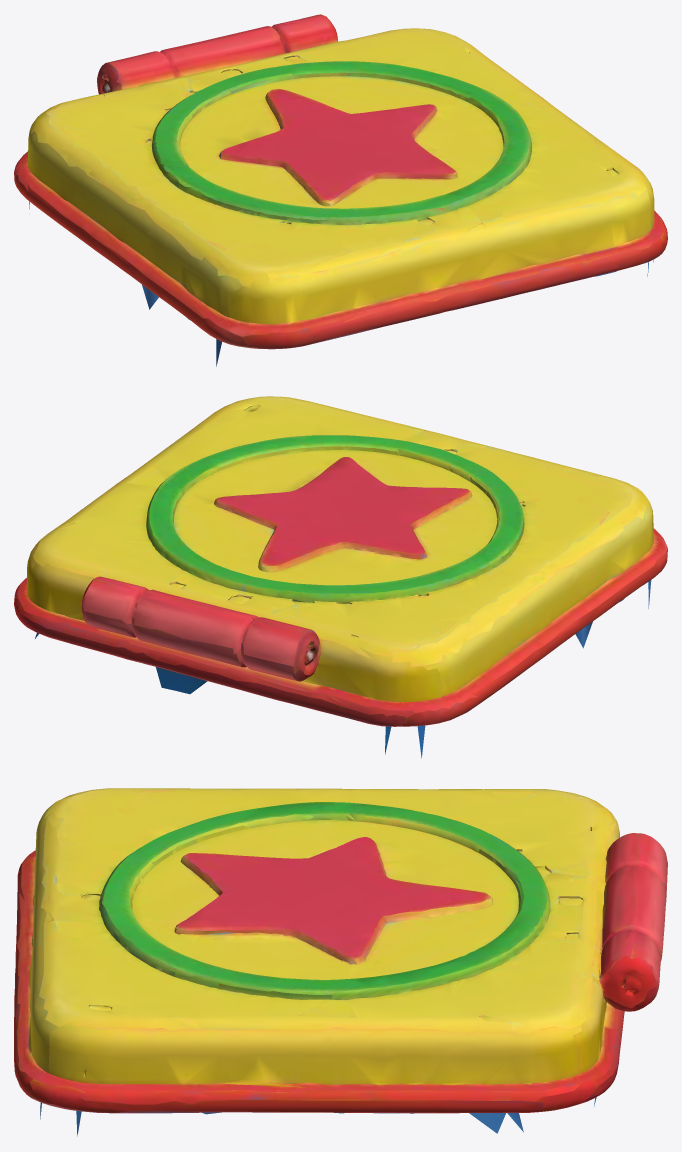
Rendered from lid.glb.
The picture shows the model from 3 angles, top to bottom: view 1: azimuth 30°, elevation 25°; view 2: azimuth 150°, elevation 25°; view 3: azimuth 270°, elevation 25°; orthographic projection. The views are drawn at different scales.
Parts seen in each view (by area): view 1: world; view 2: world; view 3: world.
Boxes of the visible parts, <box> form: world: <box>14,14,667,366</box>; world: <box>14,396,667,758</box>; world: <box>14,788,667,1136</box>.
Bounding box in the file's own units: 0.1288 × 0.0311 × 0.1347.
1 material, 1 textured.
